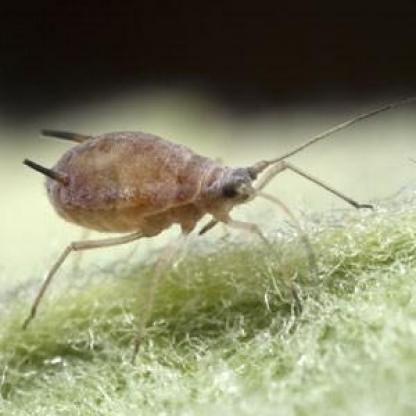aphid: (20, 102, 400, 335)
